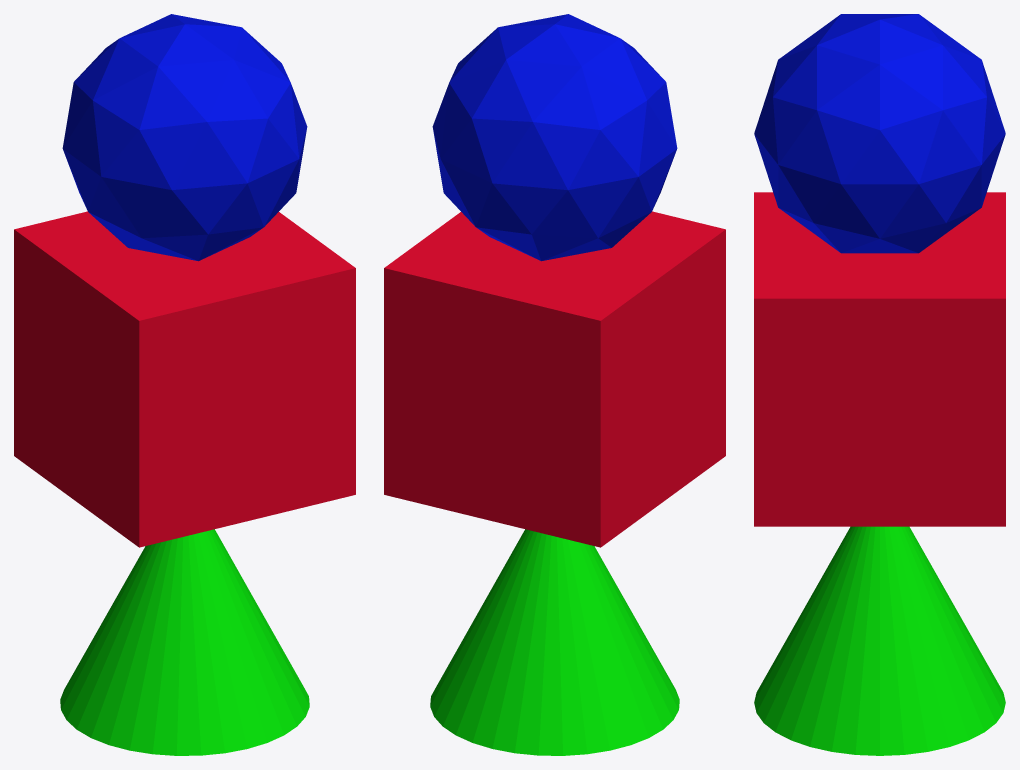
The model's file is TestModel2.glb.
3 views of the same model, side by side, from view 1: azimuth 30°, elevation 25°; view 2: azimuth 150°, elevation 25°; view 3: azimuth 270°, elevation 25° (orthographic).
Visible parts, largest first — view 1: Cube, Icosphere, Cone; view 2: Cube, Icosphere, Cone; view 3: Cube, Icosphere, Cone.
Part boxes in pixels (x1,y1,x2,y2): Cube: (14,211,355,547); Icosphere: (62,14,307,261); Cone: (60,529,309,755); Cube: (384,211,725,547); Icosphere: (432,14,677,261); Cone: (430,529,679,755); Cube: (754,192,1005,526); Icosphere: (754,14,1005,253); Cone: (754,526,1005,755).
Bounding box in the file's own units: 2 × 5.99 × 2.
